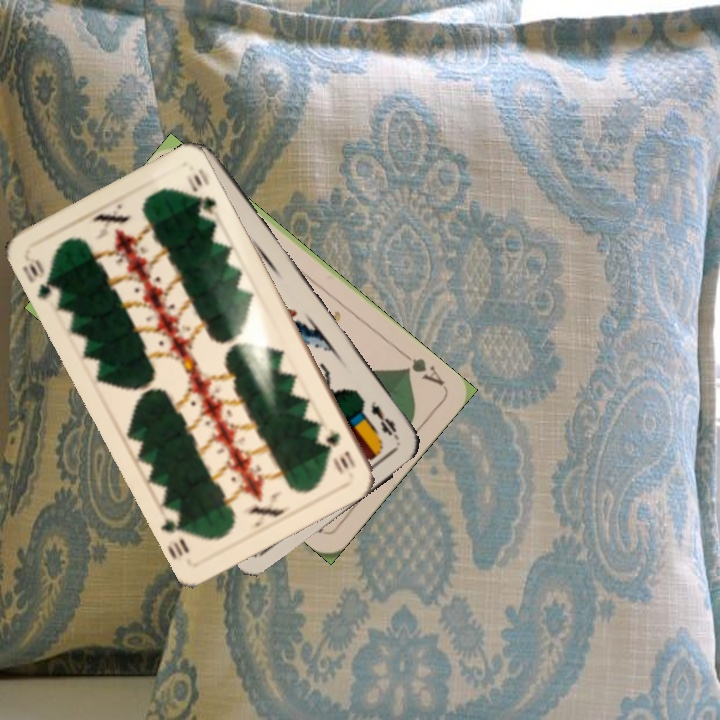EO: (366, 396, 403, 443)
G10: (18, 253, 64, 303), (322, 424, 359, 475)
GA: (397, 347, 448, 389)
